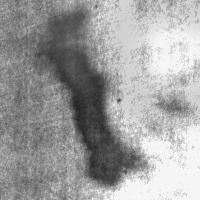patches: (83, 0, 200, 135), (47, 12, 138, 184), (45, 0, 159, 100), (140, 21, 200, 85)
